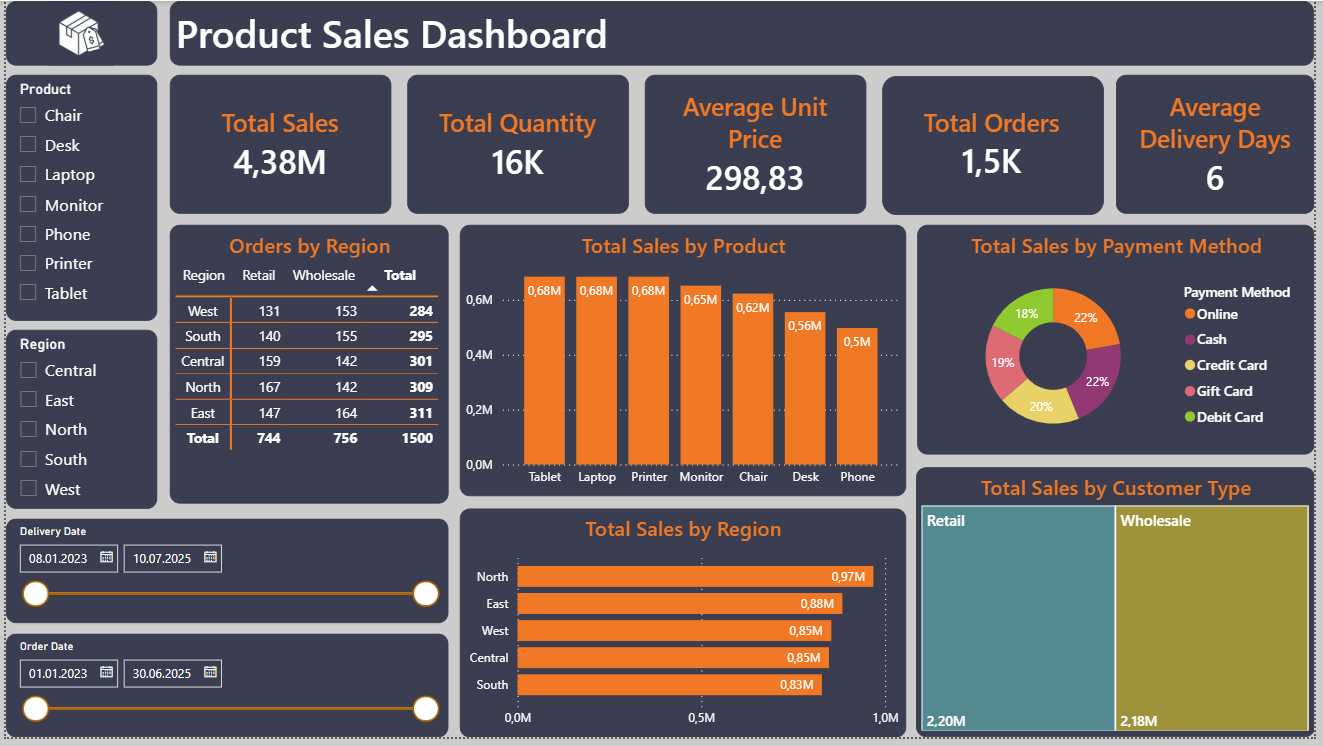

This screenshot's page, from the dashboard's own definition file:
{"tool":"powerbi","page":{"name":"Product Sales Dashboard","canvas":[1280,720],"ordinal":0},"visuals":[{"type":"columnChart","fields":{"Category":["ProductSales Dataset.Product"],"Y":["ProductSales Dataset.Total Sales"]},"box":[432,208,448,288],"z":0},{"type":"clusteredBarChart","fields":{"Category":["ProductSales Dataset.Region"],"Y":["ProductSales Dataset.Total Sales"]},"box":[352,496,528,224],"z":1000},{"type":"donutChart","fields":{"Category":["ProductSales Dataset.Payment Method"],"Y":["ProductSales Dataset.Total Sales"]},"box":[879.2,206.7,399.9,223.8],"z":2000},{"type":"treemap","fields":{"Group":["ProductSales Dataset.CustomerType"],"Values":["ProductSales Dataset.Total Sales"]},"box":[879.2,430.4,401.1,289.8],"z":3000},{"type":"pivotTable","fields":{"Rows":["ProductSales Dataset.Region"],"Columns":["ProductSales Dataset.CustomerType"],"Values":["ProductSales Dataset.Total Orders"]},"box":[160,208,272,288],"z":4000},{"type":"cardVisual","fields":{"Data":["ProductSales Dataset.Total Sales"]},"box":[160,64,224,144],"z":5000},{"type":"cardVisual","fields":{"Data":["ProductSales Dataset.Total Orders"]},"box":[831.5,63.6,225,144.3],"z":6000},{"type":"cardVisual","fields":{"Data":["ProductSales Dataset.Average Delivery Days"]},"box":[1055.3,63.6,223.8,144.3],"z":7000},{"type":"cardVisual","fields":{"Data":["ProductSales Dataset.Total Quantity"]},"box":[384,64,224,144],"z":8000},{"type":"cardVisual","fields":{"Data":["ProductSales Dataset.Average Unit Price"]},"box":[608,64,224,144],"z":9000},{"type":"slicer","fields":{"Values":["ProductSales Dataset.Product"]},"box":[0,64,160,240],"z":10000},{"type":"slicer","fields":{"Values":["ProductSales Dataset.Order Date"]},"box":[0,608,352,112],"z":10001},{"type":"slicer","fields":{"Values":["ProductSales Dataset.Delivery Date"]},"box":[0,496,352,112],"z":10002},{"type":"slicer","fields":{"Values":["ProductSales Dataset.Region"]},"box":[0,304,160,192],"z":10003},{"type":"textbox","box":[160.2,0,1118.9,63.6],"z":10004},{"type":"textbox","box":[0,0,160,64],"z":10005},{"type":"image","box":[0,0,160,64],"z":10006}]}

Visuals, with their boxes in screenshot pixels (x1, y1, x2, y2), scaled from the page's 1280x720 canvas onto the 1323x746 screenshot:
columnChart - ProductSales Dataset.Product x ProductSales Dataset.Total Sales: detection(447, 216, 910, 514)
clusteredBarChart - ProductSales Dataset.Region x ProductSales Dataset.Total Sales: detection(364, 514, 910, 745)
donutChart - ProductSales Dataset.Payment Method x ProductSales Dataset.Total Sales: detection(909, 214, 1322, 446)
treemap - ProductSales Dataset.CustomerType x ProductSales Dataset.Total Sales: detection(909, 446, 1322, 745)
pivotTable - ProductSales Dataset.Region x ProductSales Dataset.CustomerType: detection(165, 216, 447, 514)
cardVisual - ProductSales Dataset.Total Sales: detection(165, 66, 397, 216)
cardVisual - ProductSales Dataset.Total Orders: detection(859, 66, 1092, 215)
cardVisual - ProductSales Dataset.Average Delivery Days: detection(1091, 66, 1322, 215)
cardVisual - ProductSales Dataset.Total Quantity: detection(397, 66, 628, 216)
cardVisual - ProductSales Dataset.Average Unit Price: detection(628, 66, 860, 216)
slicer - ProductSales Dataset.Product: detection(0, 66, 165, 315)
slicer - ProductSales Dataset.Order Date: detection(0, 630, 364, 745)
slicer - ProductSales Dataset.Delivery Date: detection(0, 514, 364, 630)
slicer - ProductSales Dataset.Region: detection(0, 315, 165, 514)
textbox: detection(166, 0, 1322, 66)
textbox: detection(0, 0, 165, 66)
image: detection(0, 0, 165, 66)
